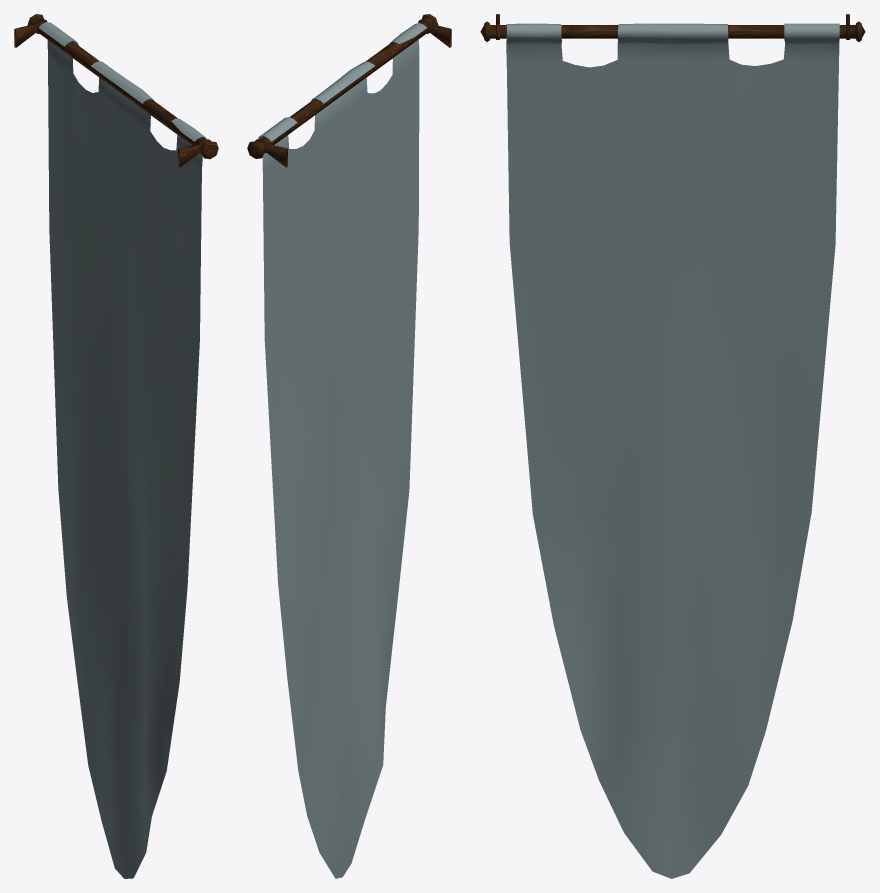
The model's file is Banner.fbx.
The picture shows the model from 3 angles, left to right: view 1: azimuth 30°, elevation 25°; view 2: azimuth 150°, elevation 25°; view 3: azimuth 270°, elevation 25°; orthographic projection. The views are drawn at different scales.
Parts seen in each view (by area): view 1: Тряпка_LP; view 2: Тряпка_LP; view 3: Тряпка_LP.
Part boxes in pixels (box(x1,y1,x2,y2)): Тряпка_LP: box(14, 14, 218, 878); Тряпка_LP: box(247, 14, 451, 878); Тряпка_LP: box(480, 14, 865, 878).
Bounding box in the file's own units: 5.63 × 50.65 × 124.
